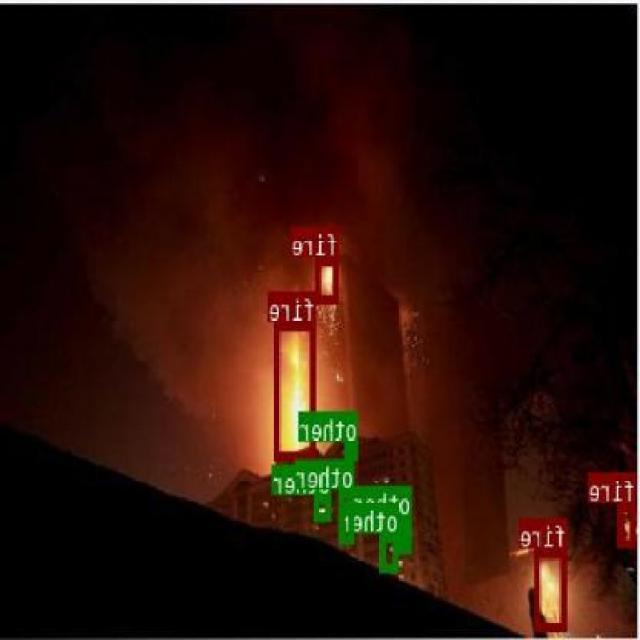Fire: (276, 322, 318, 458), (536, 548, 569, 630), (316, 256, 341, 302), (618, 502, 637, 546)
Smoke: (70, 118, 234, 402)
